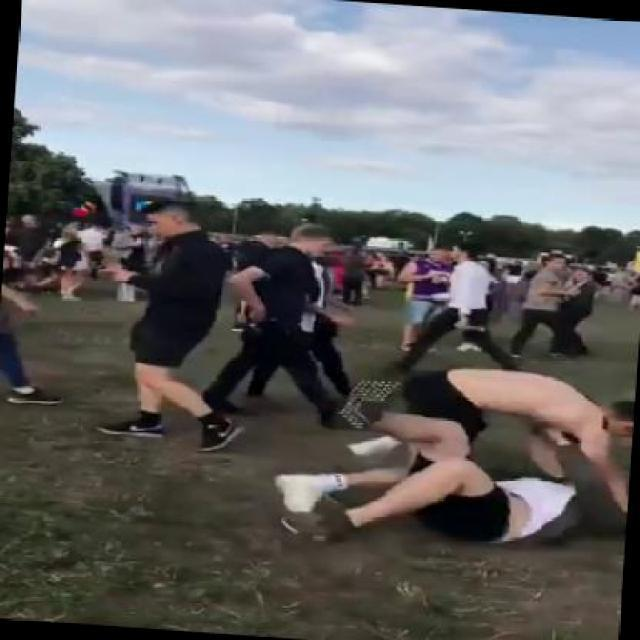fight: (272, 356, 634, 566)
